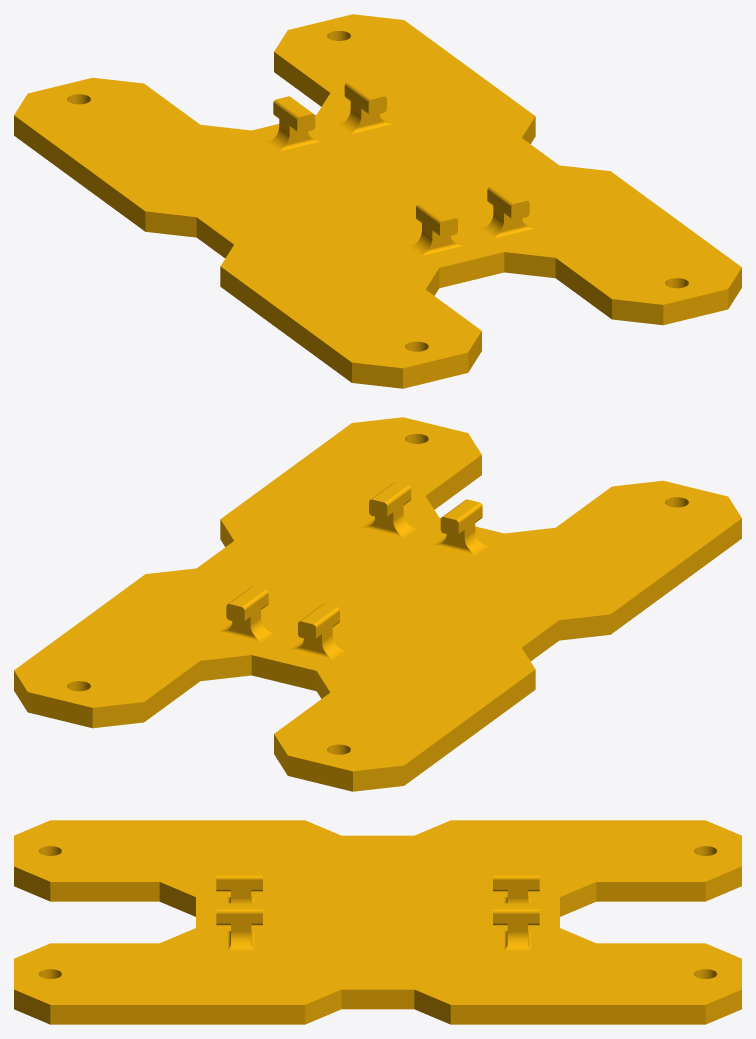
The model's file is optitrack_active_marker_mount.dae.
3 views of the same model, one above another, from view 1: azimuth 30°, elevation 25°; view 2: azimuth 150°, elevation 25°; view 3: azimuth 270°, elevation 25° (orthographic). The views are drawn at different scales.
Visible parts, largest first — view 1: node0; view 2: node0; view 3: node0.
Boxes of the visible parts, left/top/right/bottom form: node0: left=14, top=14, right=741, bottom=388; node0: left=14, top=417, right=741, bottom=791; node0: left=14, top=820, right=741, bottom=1024.
Bounding box in the file's own units: 0.06 × 0.1 × 0.0082.
